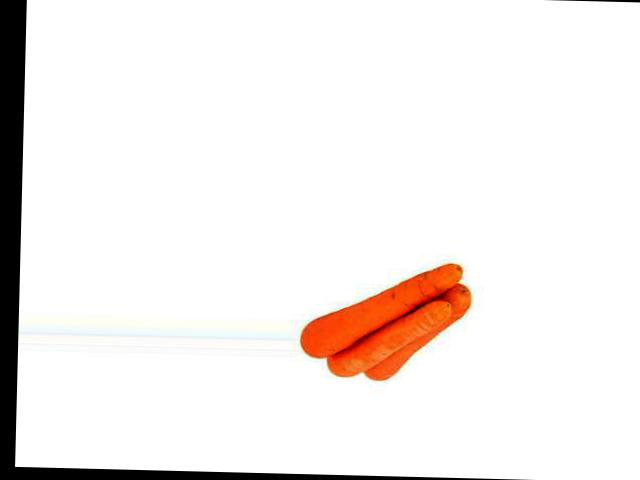carrot: (325, 295, 455, 381)
